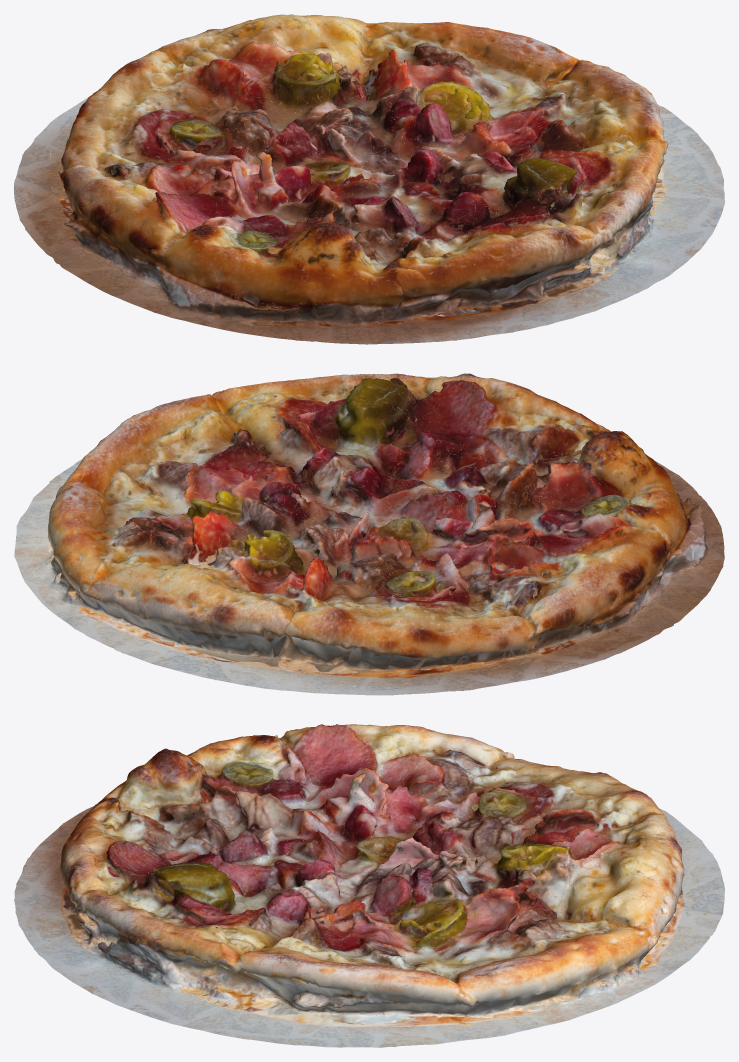
File: pizza.glb
3 renders of one model, top to bottom at view 1: azimuth 30°, elevation 25°; view 2: azimuth 150°, elevation 25°; view 3: azimuth 270°, elevation 25°, orthographic.
Parts seen in each view (by area): view 1: decMesh; view 2: decMesh; view 3: decMesh.
Boxes of the visible parts, x1,y1,x2,y2 form: decMesh: (14, 14, 724, 344); decMesh: (14, 373, 724, 695); decMesh: (14, 724, 724, 1047).
Size of the model in its own units: 0.6983 by 0.0847 by 0.698.
Materials: 1 (1 with a texture image).
